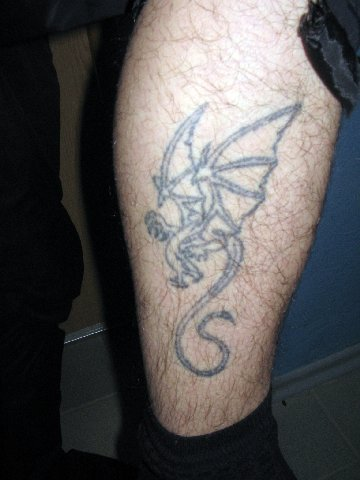tatu6_drakon: (129, 77, 323, 405)
